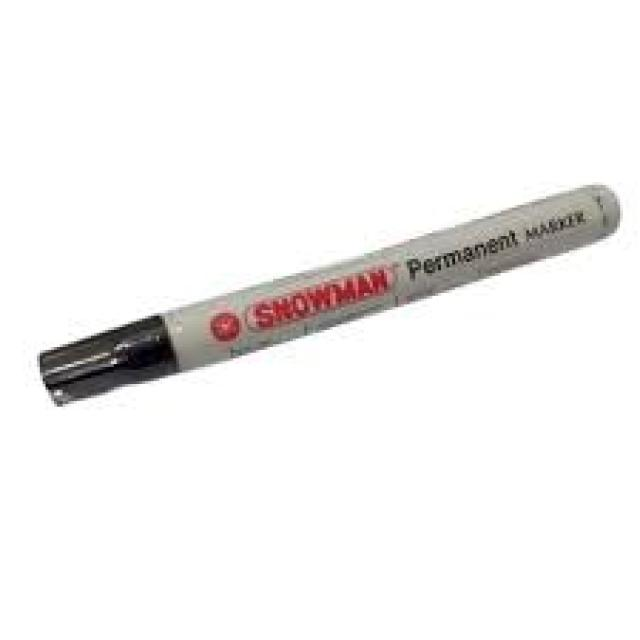marker: (47, 179, 621, 407)
